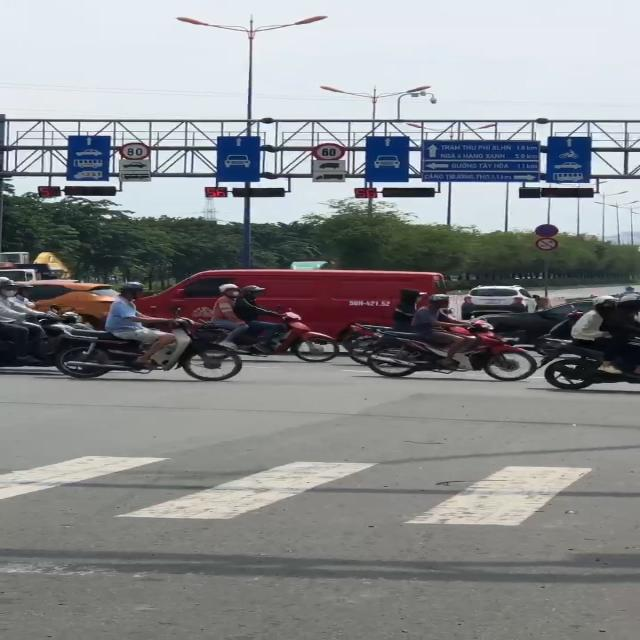Bien bao toc do toi da cho phep: (116, 141, 154, 161), (311, 142, 349, 162)
